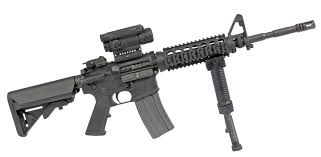gun: (6, 13, 315, 150)
